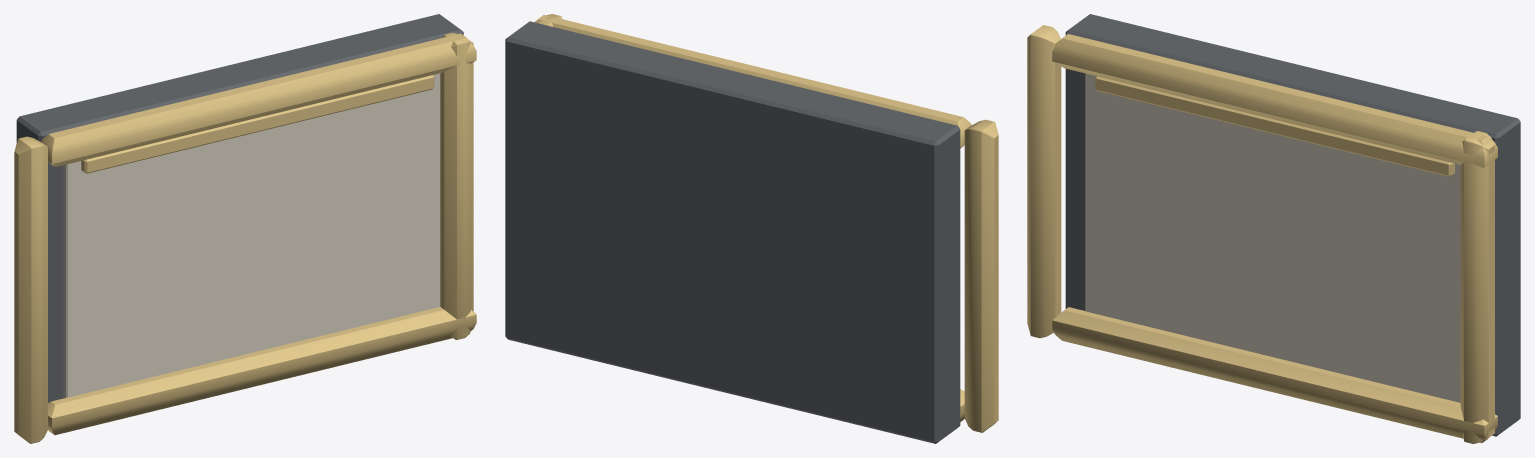
Rendered from bar-pub-and-brewery-taproom-back-bar-lightbox-fadb8345__18371.glb.
3 views of the same model, side by side, from view 1: azimuth 30°, elevation 25°; view 2: azimuth 150°, elevation 25°; view 3: azimuth 330°, elevation 25° (orthographic).
Visible parts, largest first — view 1: back-bar-lightbox; view 2: back-bar-lightbox; view 3: back-bar-lightbox.
Part boxes in pixels (x1,y1,x2,y2): back-bar-lightbox: (14, 14, 476, 443); back-bar-lightbox: (505, 14, 998, 443); back-bar-lightbox: (1027, 14, 1520, 443).
Bounding box in the file's own units: 0.96 × 0.6 × 0.135.
